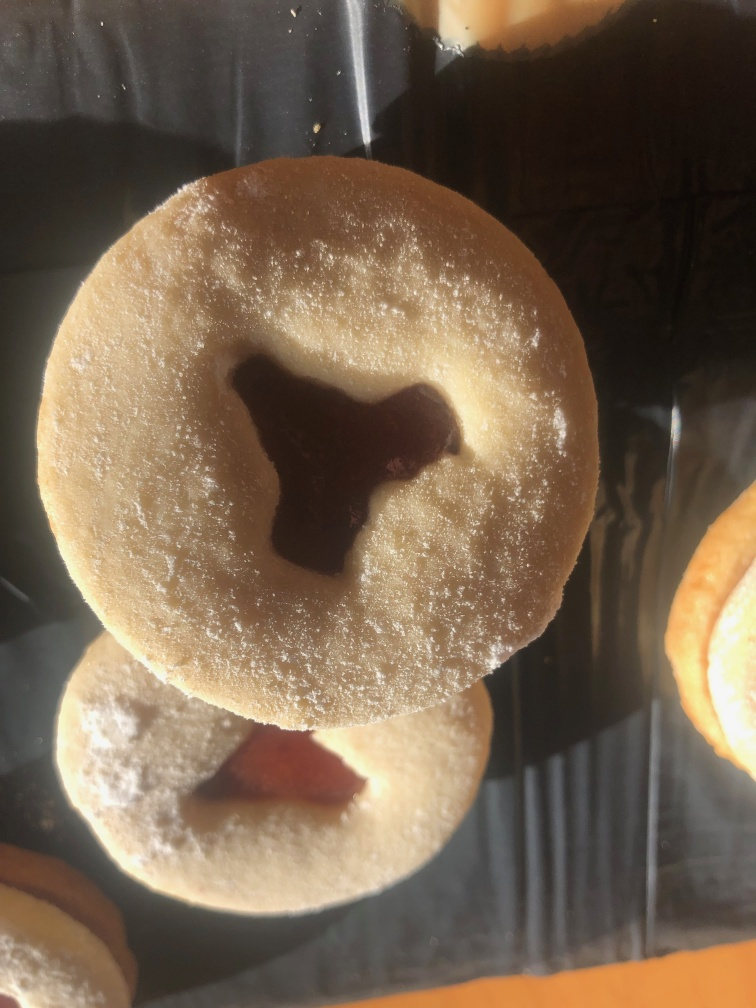christmas shortbread with jam: (39, 157, 599, 707), (55, 619, 495, 919)
